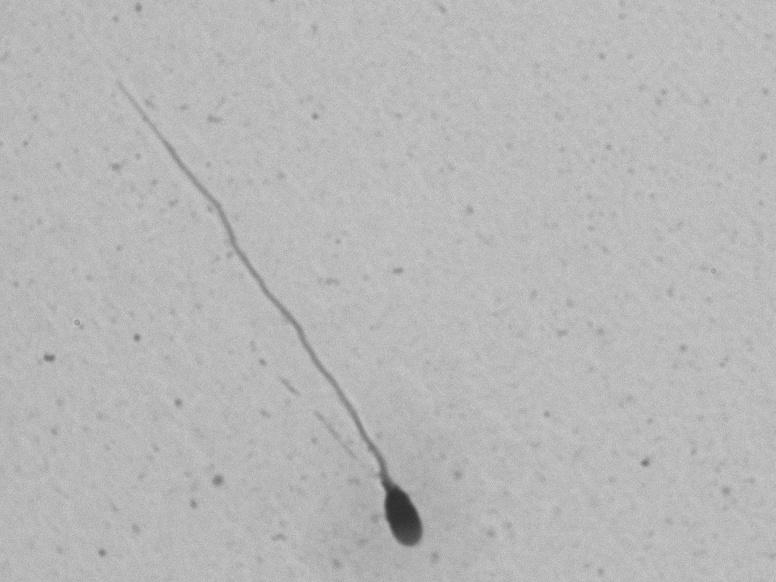Normal: (97, 69, 471, 555)
